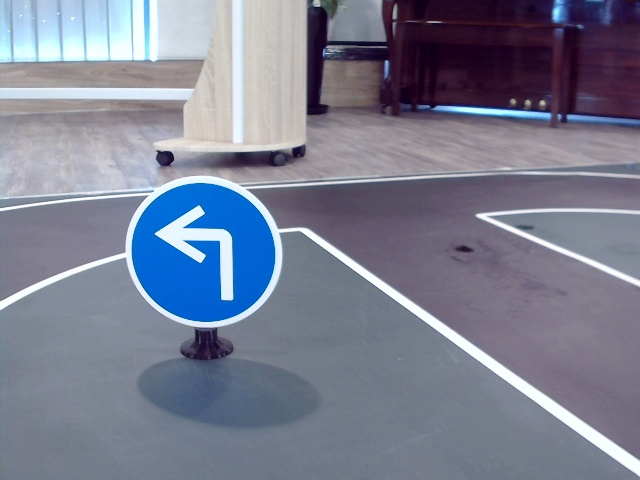turn_left: (151, 201, 245, 301)
